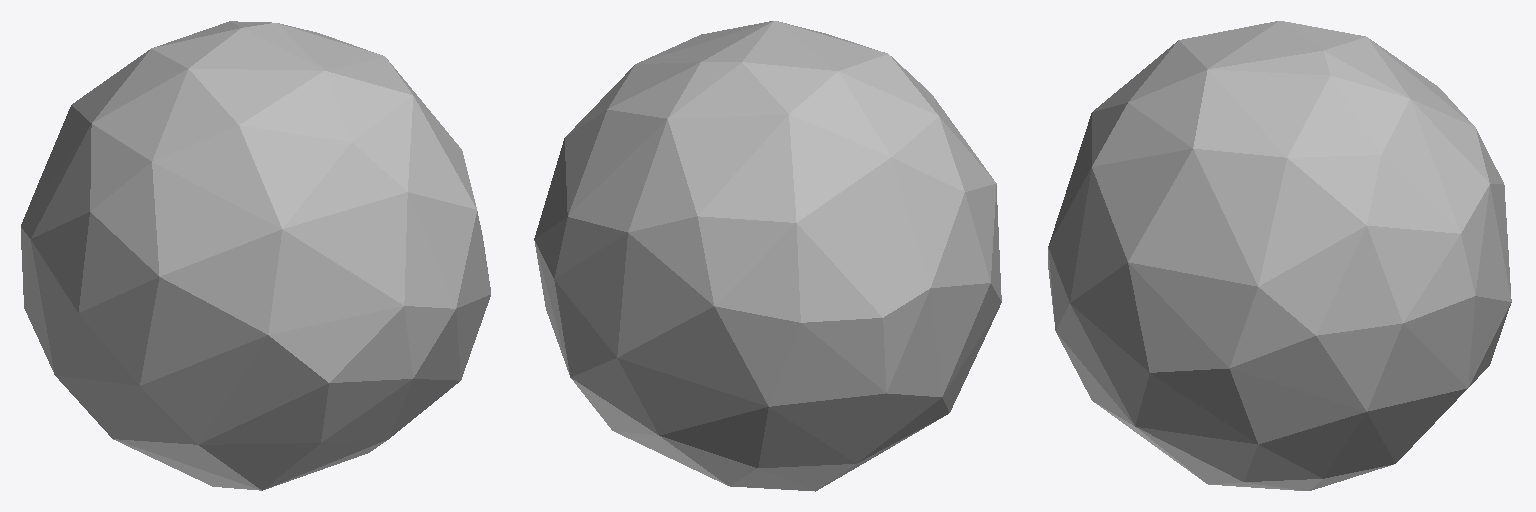
The robot description file, URDF, robot "root":
<robot name="root">
  <link name="link_ycb~tennis_ball_convex_piece_0">
    <inertial>
      <origin rpy="0 0 0" xyz="0 0 0"/>
      <mass value="6.19E-01"/>
      <inertia ixx="2.77E-04" ixy="-5.51E-07" ixz="-2.03E-06" iyy="2.77E-04" iyz="-1.77E-06" izz="2.82E-04"/>
    </inertial>
    <visual>
      <origin rpy="0 0 0" xyz="0 0 0"/>
      <geometry>
        <mesh filename="ycb~tennis_ball_convex_piece_0.obj" scale="1.0000E+00 1.0000E+00 1.0000E+00"/>
      </geometry>
      <material name="">
        <color rgba="7.50E-01 7.50E-01 7.50E-01 1"/>
      </material>
    </visual>
    <collision>
      <origin rpy="0 0 0" xyz="0 0 0"/>
      <geometry>
        <mesh filename="ycb~tennis_ball_convex_piece_0.obj" scale="1.0000E+00 1.0000E+00 1.0000E+00"/>
      </geometry>
    </collision>
  </link>
</robot>

--- What the picture shows (computed from the rendered views, not written in the file) ---
The picture shows the robot from 3 angles, left to right: view 1: azimuth 30°, elevation 25°; view 2: azimuth 150°, elevation 25°; view 3: azimuth 270°, elevation 25°; orthographic projection.
Model root with 1 links and 0 joints (none), rooted at link_ycb~tennis_ball_convex_piece_0, posed every joint at zero.
Links seen in each view (by area): view 1: link_ycb~tennis_ball_convex_piece_0; view 2: link_ycb~tennis_ball_convex_piece_0; view 3: link_ycb~tennis_ball_convex_piece_0.
Link boxes in pixels (x1=…): link_ycb~tennis_ball_convex_piece_0: x1=21, y1=21, x2=490, y2=490; link_ycb~tennis_ball_convex_piece_0: x1=534, y1=21, x2=1001, y2=491; link_ycb~tennis_ball_convex_piece_0: x1=1048, y1=21, x2=1511, y2=490.
Bounding box of the posed robot: 0.0679 × 0.0679 × 0.0668 m (x, y, z).
Meshes: 1 distinct files referenced, 1 mesh visuals loaded (1 OBJ).
